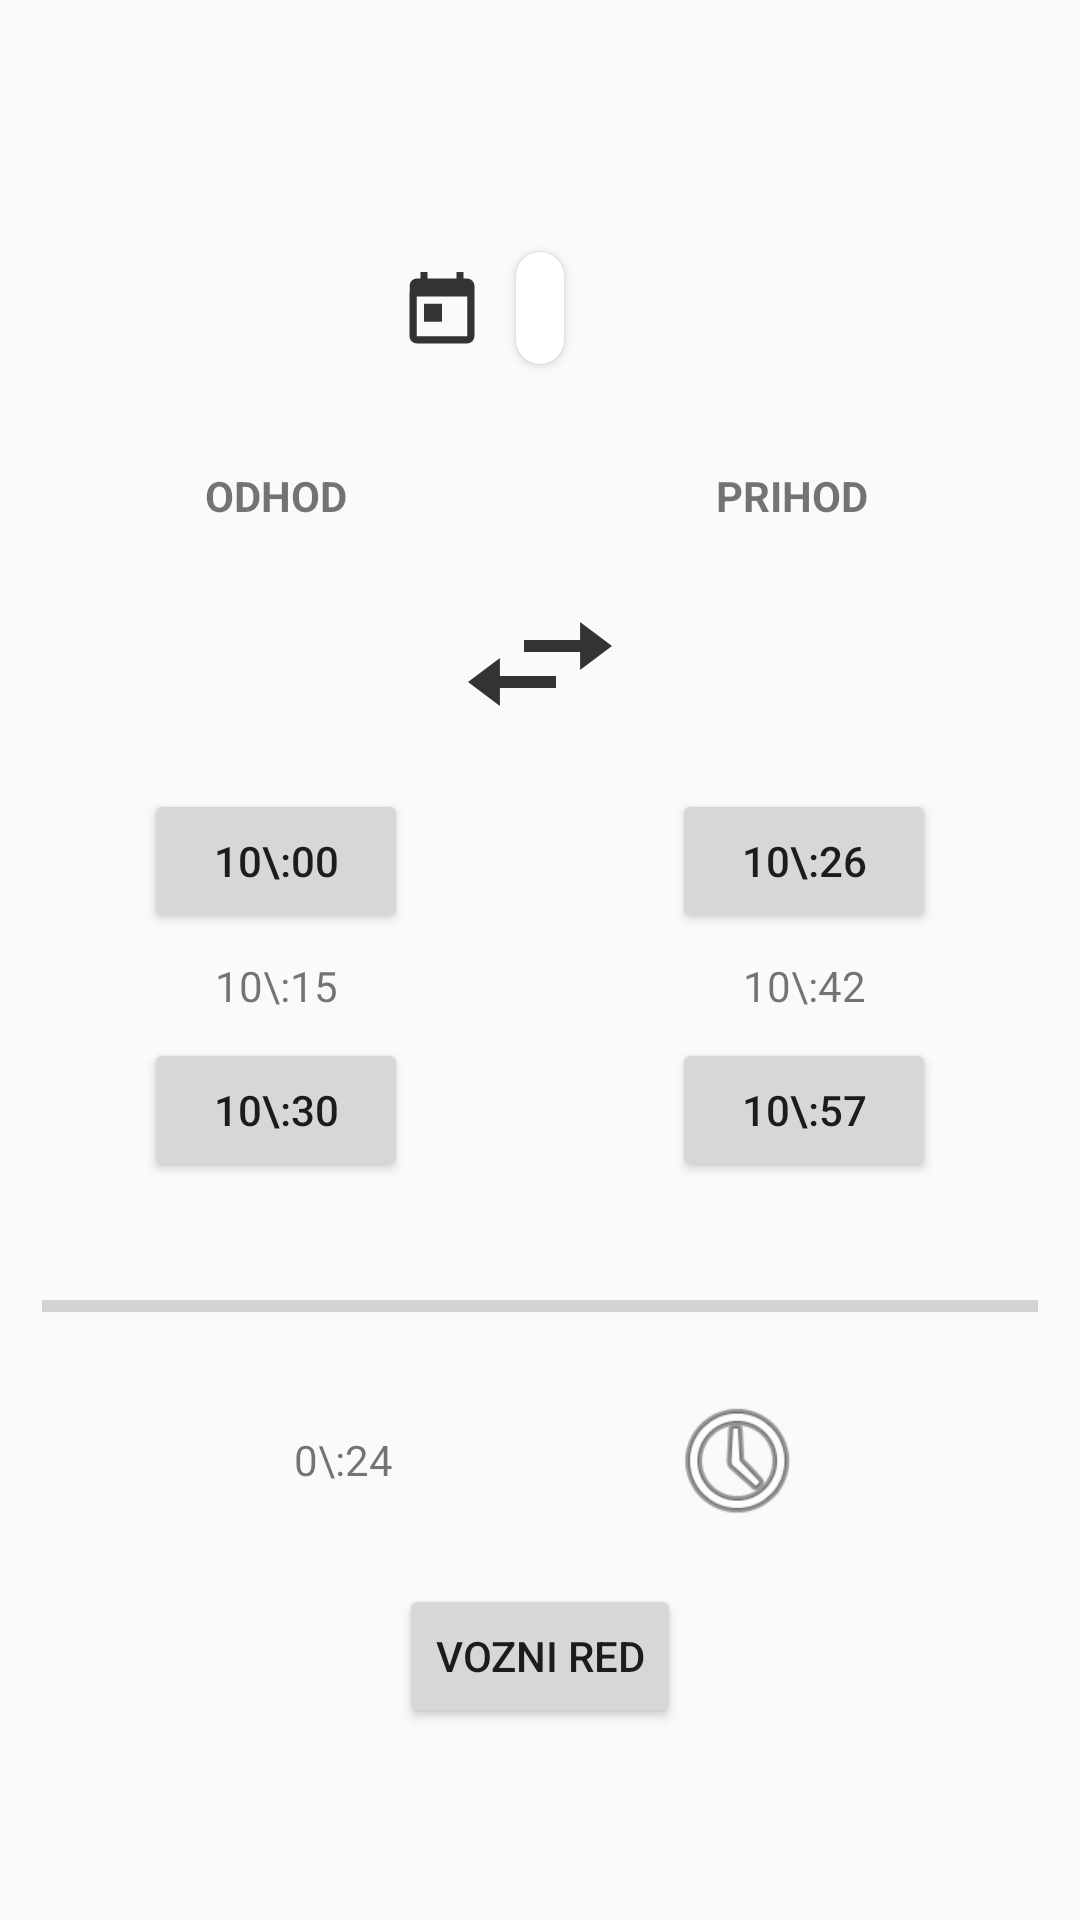

Where icons sit on this 1080 × 1920 app screen, as (x1, y1, x2, y2):
date: (409, 272, 475, 344)
